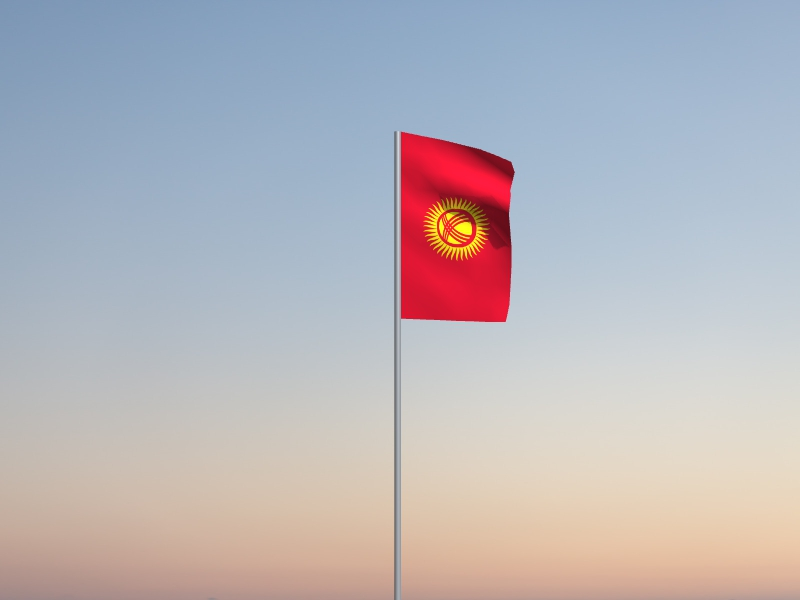kg: (402, 132, 516, 323)
